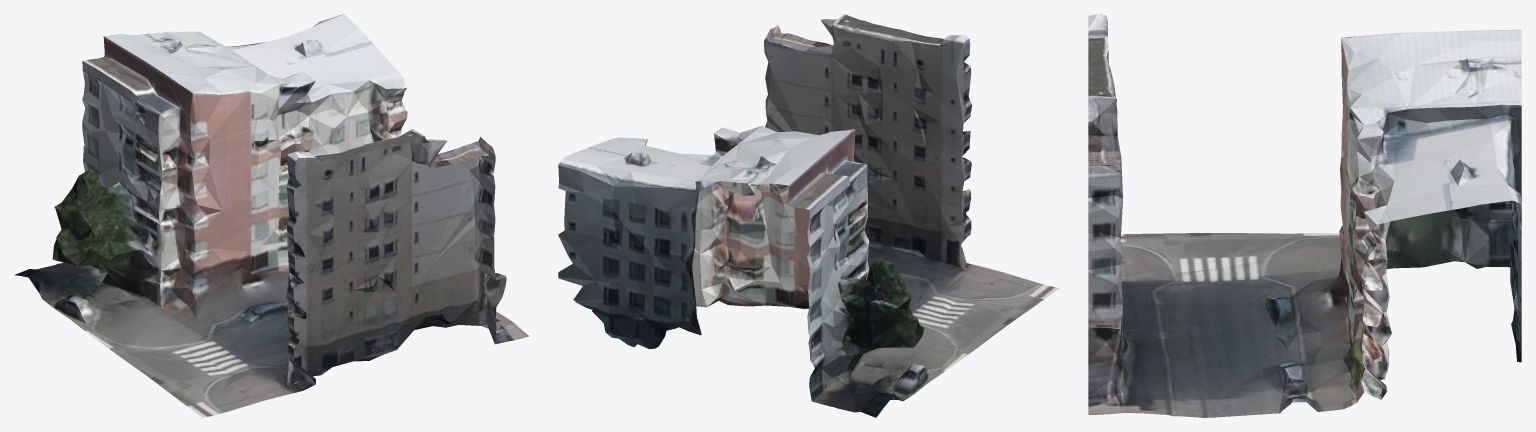
Rendered from helsinki-2-6.glb.
3 views of the same model, side by side, from view 1: azimuth 30°, elevation 25°; view 2: azimuth 150°, elevation 25°; view 3: azimuth 270°, elevation 25° (orthographic). The views are drawn at different scales.
Size of the model in its own units: 31.75 by 22.3 by 31.75.
Materials: 1 (1 with a texture image).
